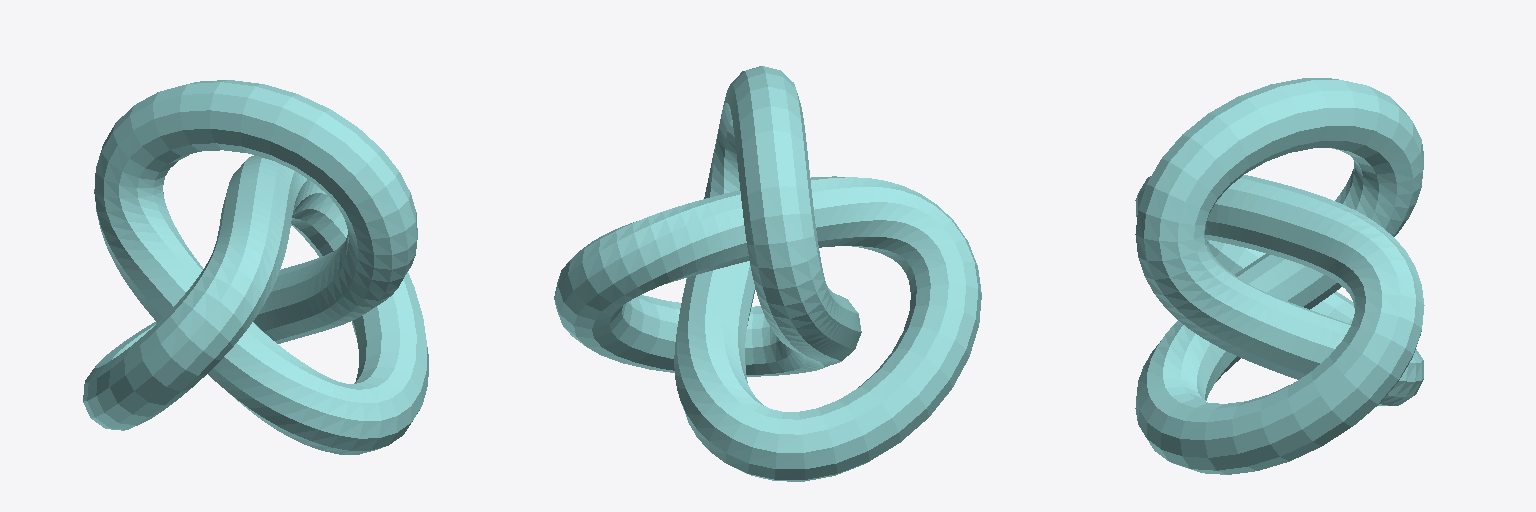
Rendered from torus_knot.obj.
3 renders of one model, left to right at view 1: azimuth 30°, elevation 25°; view 2: azimuth 150°, elevation 25°; view 3: azimuth 270°, elevation 25°, orthographic.
Parts seen in each view (by area): view 1: Torus_Knot001; view 2: Torus_Knot001; view 3: Torus_Knot001.
Part boxes in pixels (x1,y1,x2,y2): Torus_Knot001: (83,80,428,454); Torus_Knot001: (554,66,981,481); Torus_Knot001: (1135,78,1424,474).
Bounding box in the file's own units: 2.39 × 2.24 × 1.73.